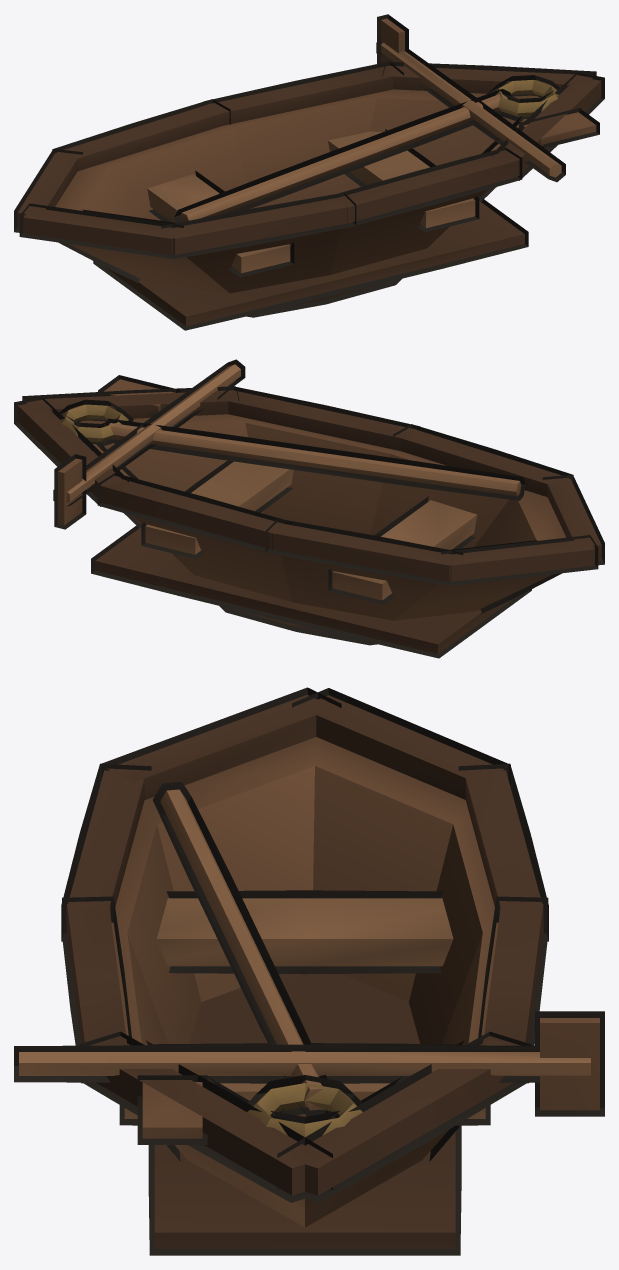
File: barque.glb
3 renders of one model, top to bottom at view 1: azimuth 30°, elevation 25°; view 2: azimuth 150°, elevation 25°; view 3: azimuth 270°, elevation 25°, orthographic. The views are drawn at different scales.
Visible parts, largest first — view 1: barque, barque_outline; view 2: barque, barque_outline; view 3: barque, barque_outline.
Boxes of the visible parts, x1,y1,x2,y2 form: barque: (17,18,601,326); barque_outline: (14,14,604,330); barque: (18,364,601,653); barque_outline: (14,359,604,658); barque: (19,695,599,1248); barque_outline: (14,687,604,1255).
Size of the model in its own units: 1.88 by 0.5008 by 0.9816.
